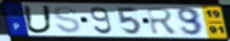5: (115, 6, 144, 36)
9: (176, 7, 206, 37), (90, 6, 113, 35)
R: (145, 7, 181, 36)
S: (52, 5, 83, 35)
U: (21, 4, 55, 35)
